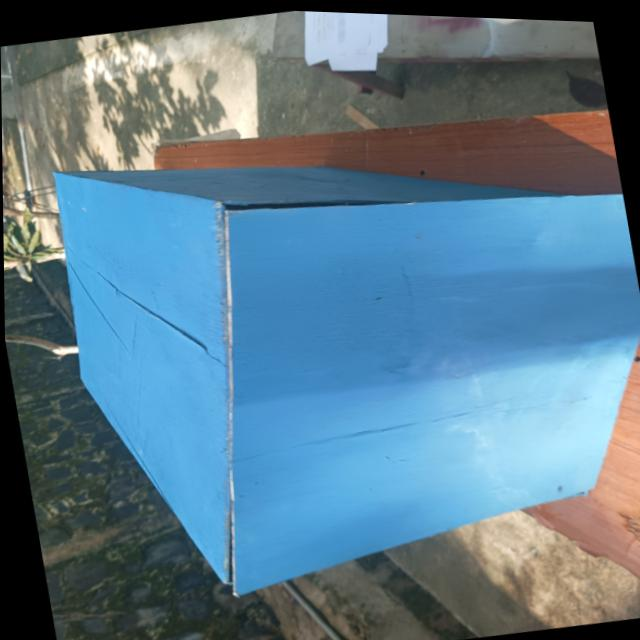blue_box: (1, 66, 640, 638)
